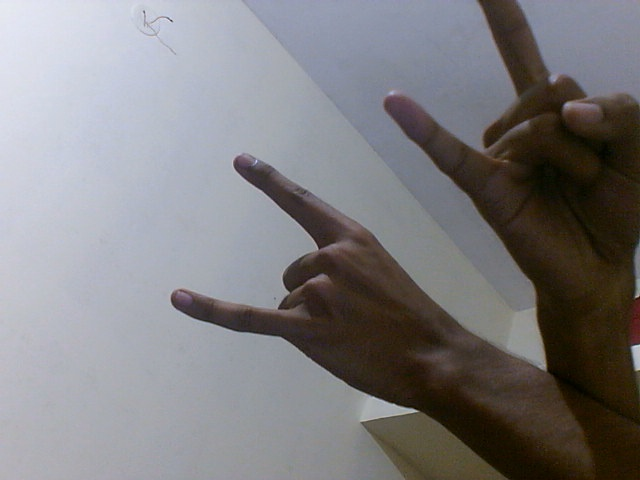hand: (376, 1, 640, 328), (166, 151, 485, 417)
